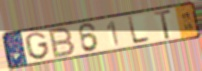1: (106, 20, 121, 47)
6: (77, 21, 99, 53)
B: (48, 26, 78, 60)
G: (24, 31, 51, 61)
L: (126, 15, 152, 45)
T: (152, 9, 173, 41)
